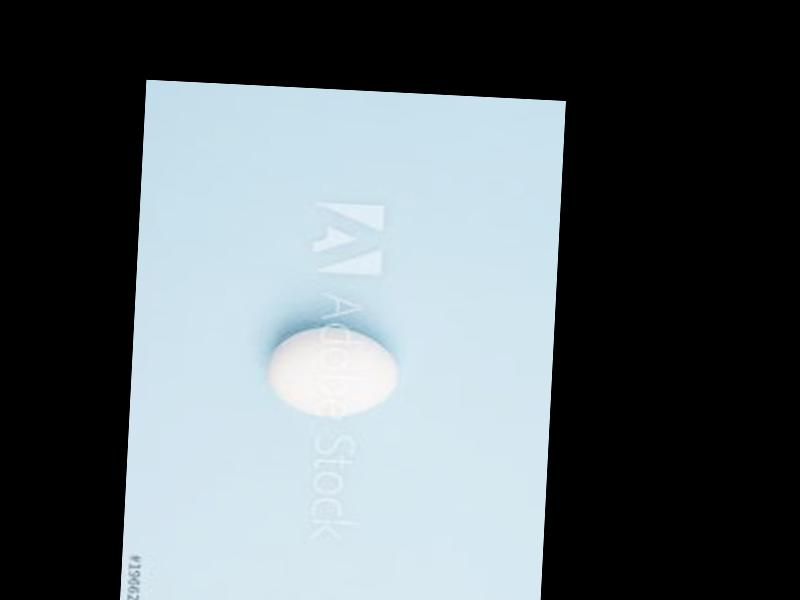Eggs: (267, 324, 397, 418)
